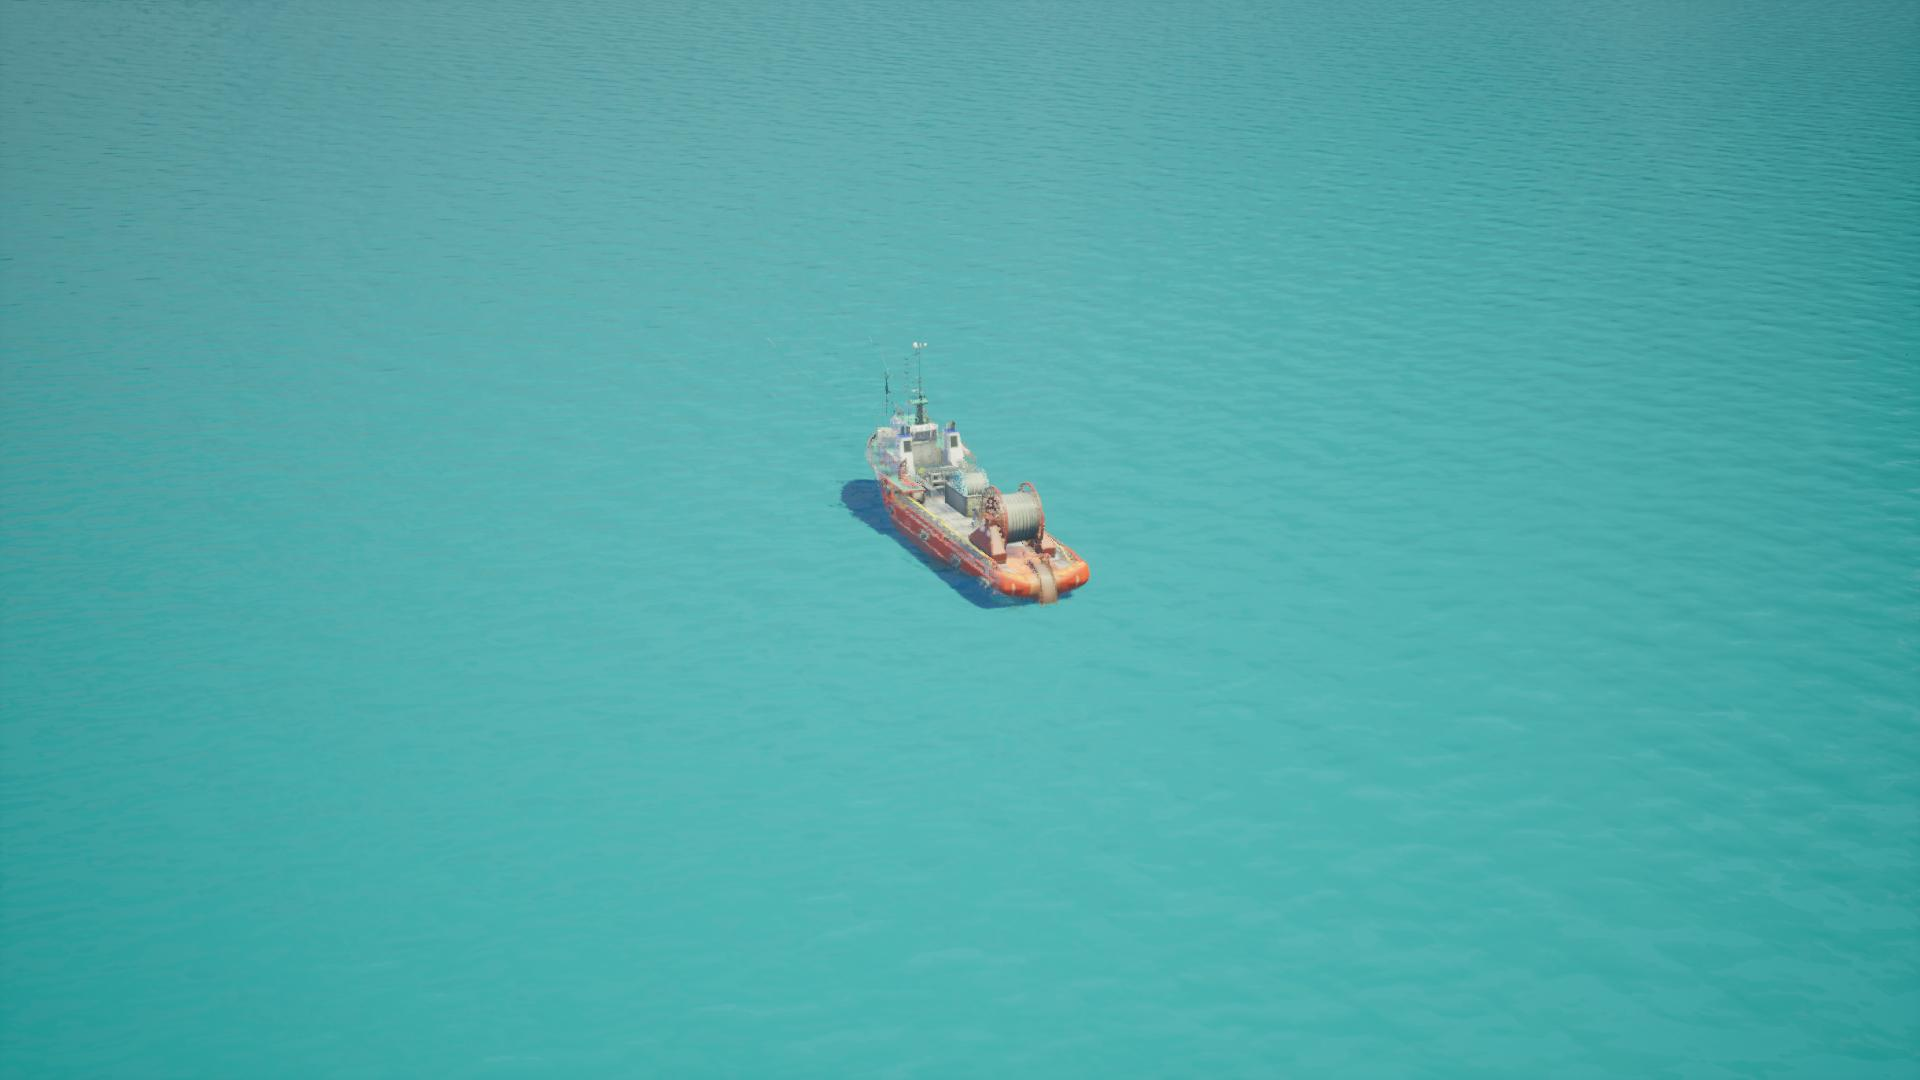Tug Boat: (815, 301, 1149, 640)
